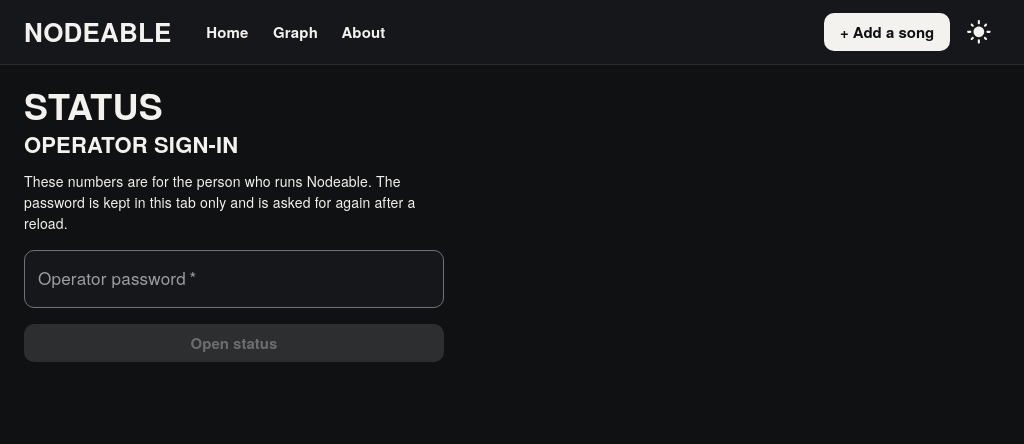
Test case: the status page (NFR-OBS-03) › NFR_OBS_03 a wrong password sends the person back to the form with a plain message
The width and height of the screenshot is (1024, 444).
Step 1. Type "not the password" into the password field labelled "Operator password *" → (234, 279), box [24, 250, 444, 308]
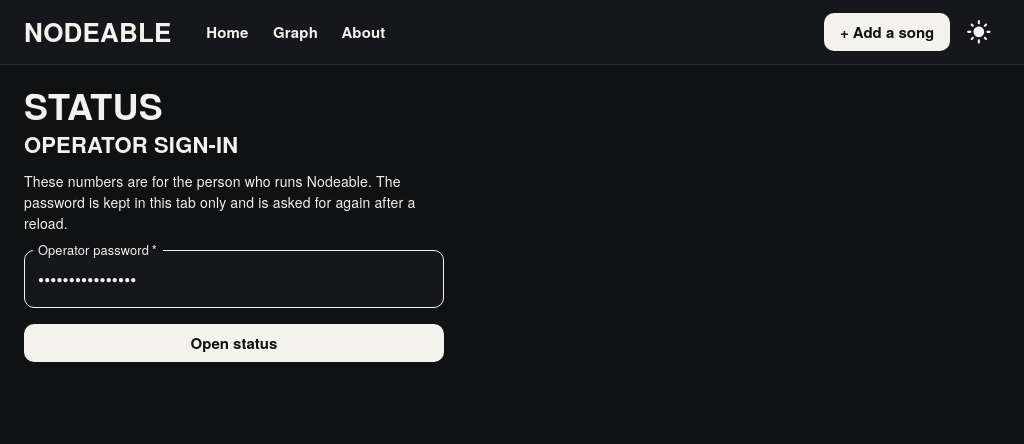
Step 2. Click the button "Open status" → (234, 343), box [24, 324, 444, 362]
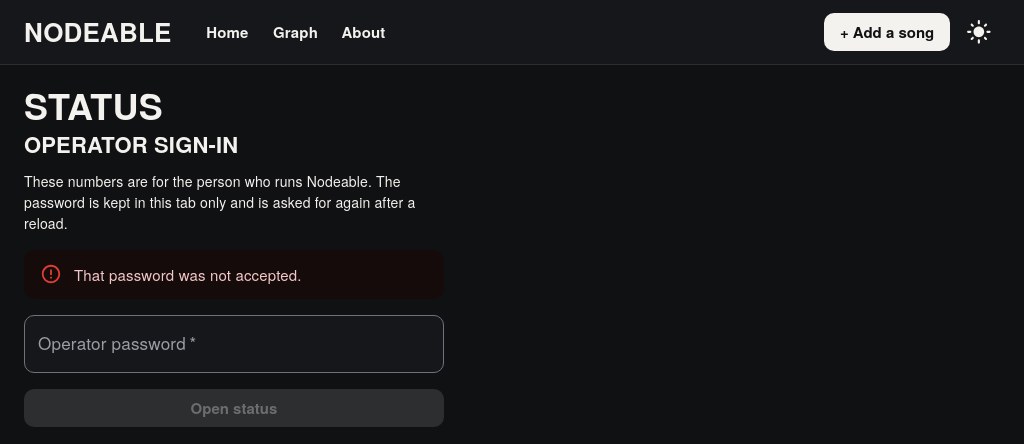
Expected: the heading "Operator sign-in" is shown, [24, 128, 238, 160]
Expected: the text "That password was not accepted." is shown, [74, 264, 302, 285]
